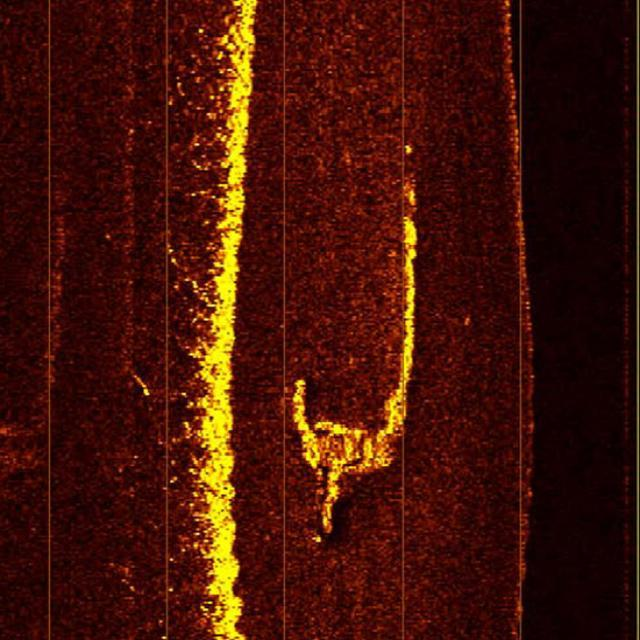shipwreck: (286, 147, 424, 548)
